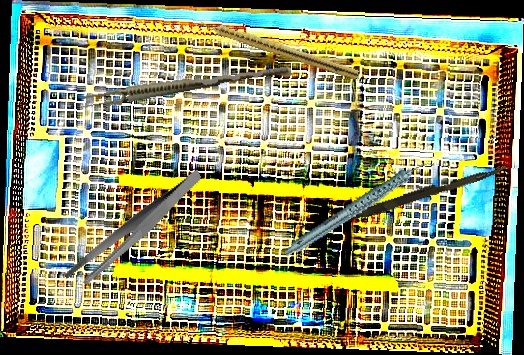Dressing Forceps: (47, 168, 222, 292)
Handpiece: (272, 158, 447, 258), (197, 15, 361, 81)
Pusher: (325, 158, 508, 233)
Tissue Forceps: (80, 57, 293, 114)
